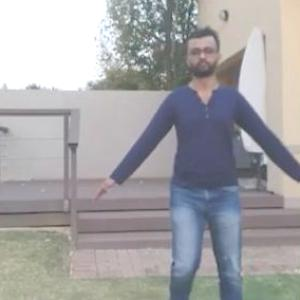land: (100, 41, 286, 299)
